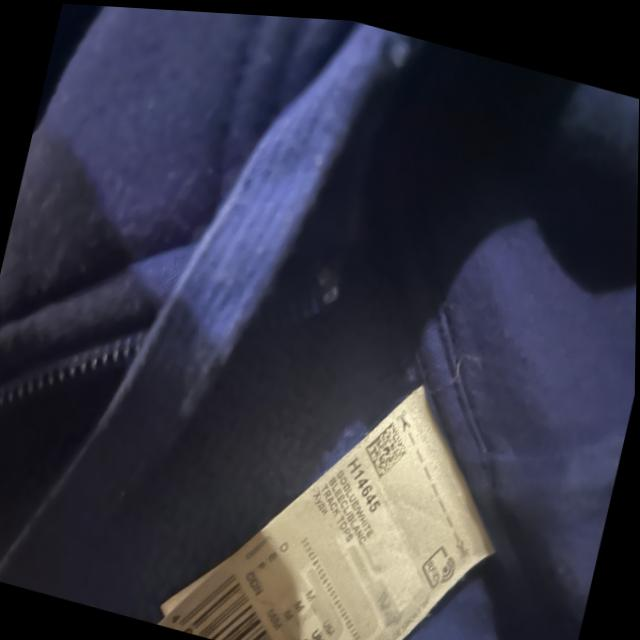datamatrix: (361, 411, 413, 480)
